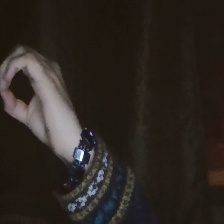O: (1, 37, 90, 156)
